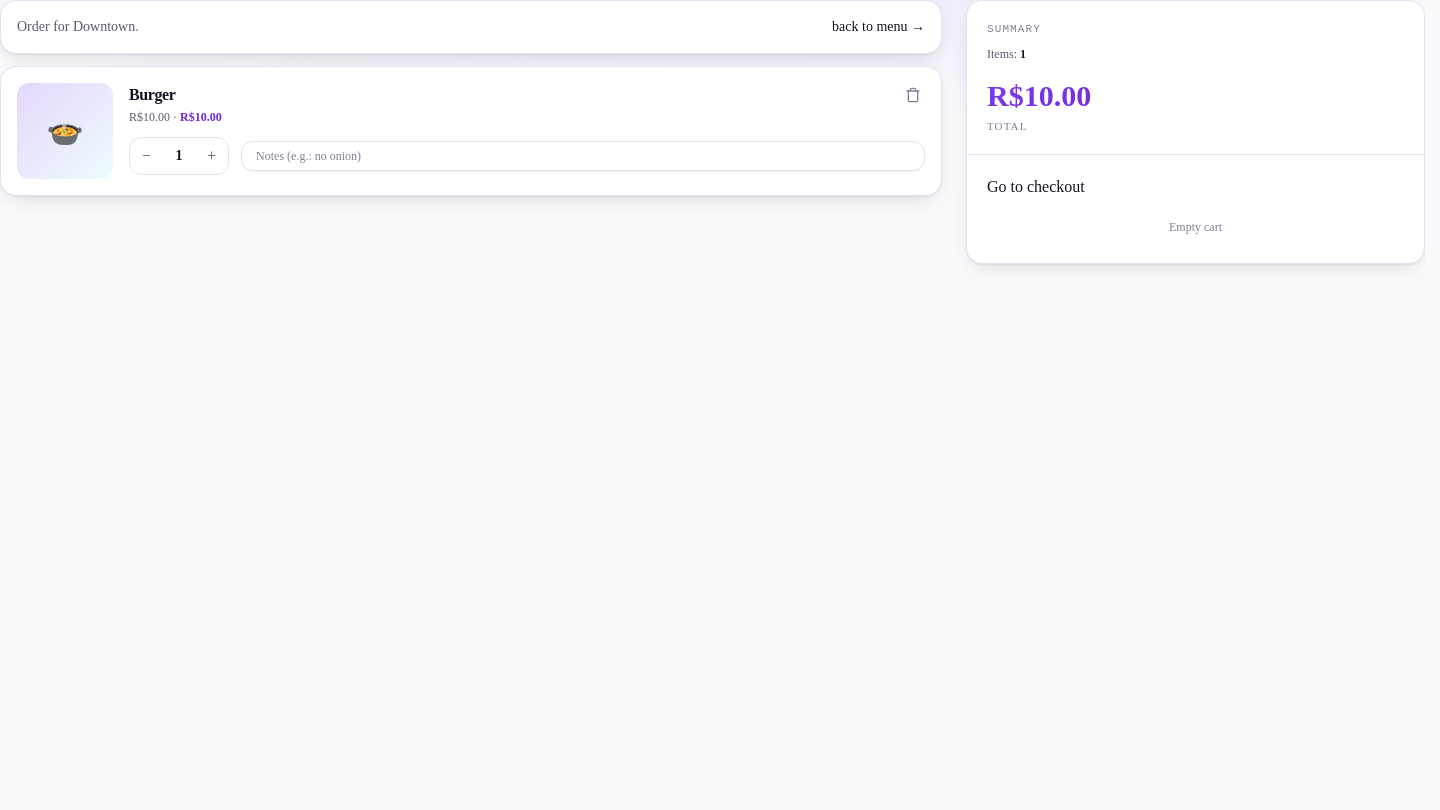
Test: CartView › empties the cart via the clear button, after confirming
The width and height of the screenshot is (1440, 810).
expect the text "Burger" is shown: met, box [129,86,176,103]
Click the button "Empty cart" at coordinates (1196, 227), box [987,211,1404,243]
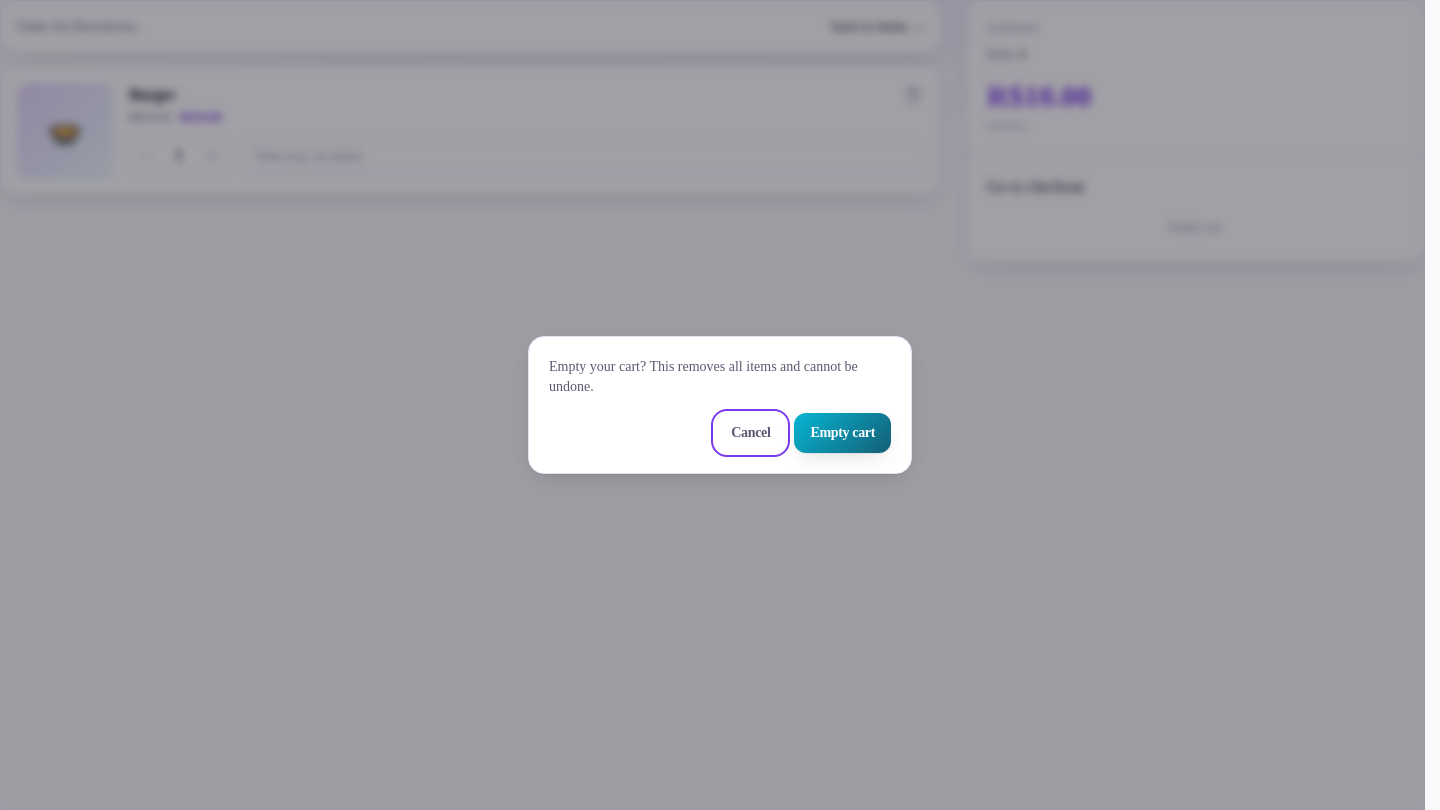
Click the button "Empty cart" at coordinates (843, 433), box [794,413,891,453]
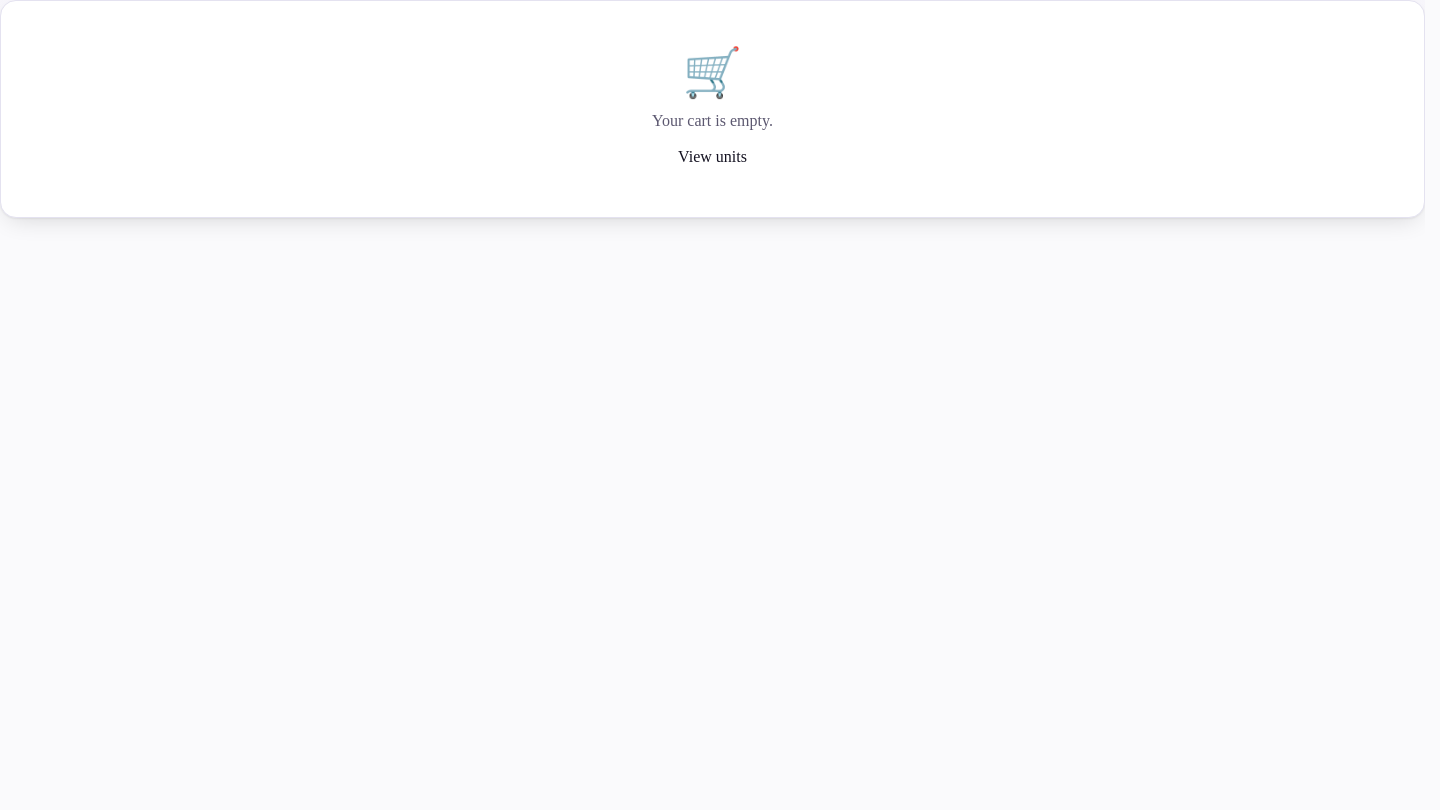
expect the text "Your cart is empty." is shown: met, box [652,109,773,133]
